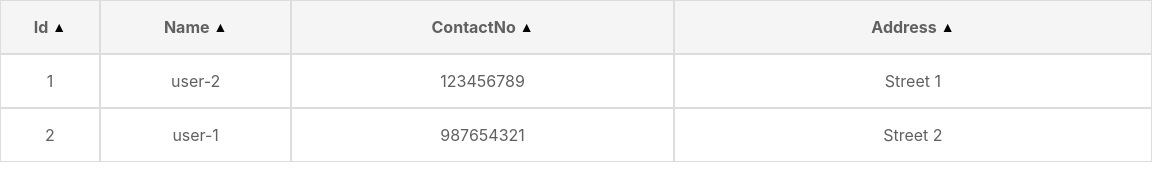
Table Component › sorts table data correctly
Click the button with test id "sort-button-name": {"x": 220, "y": 27} [214,19,227,35]
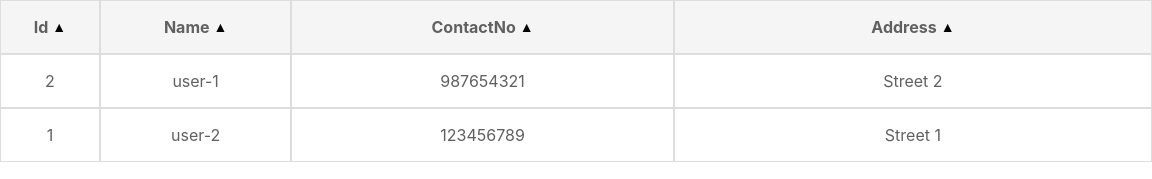
Check: the cell "user-1" is shown, box [100,54,291,108]
Check: the cell "user-2" is shown, box [100,108,291,162]
